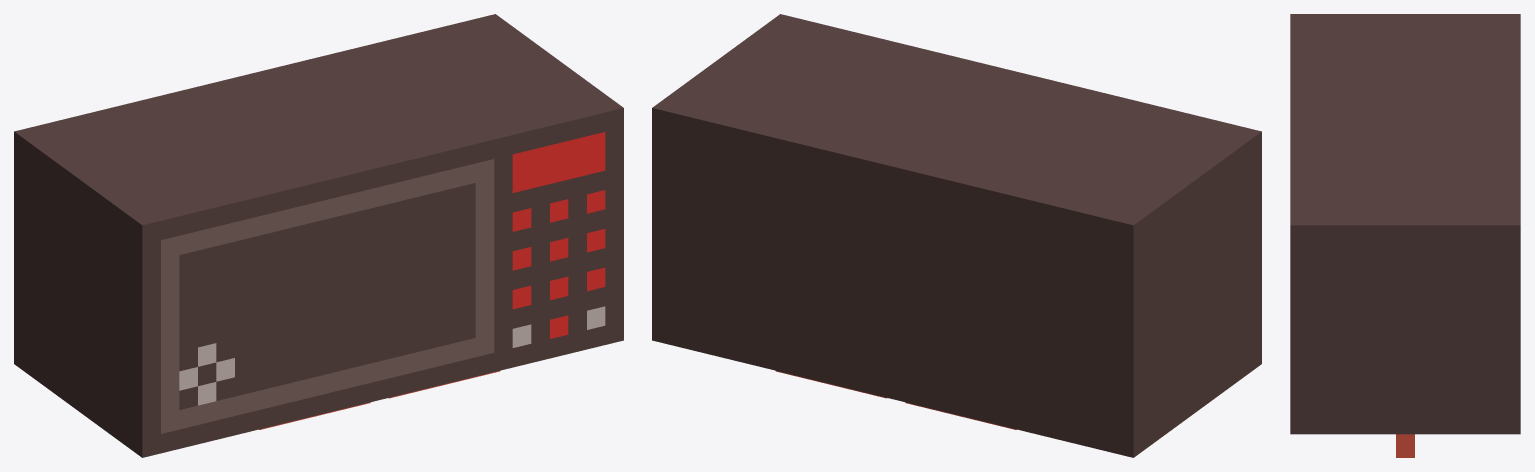
File: wallsafe.glb
3 renders of one model, left to right at view 1: azimuth 30°, elevation 25°; view 2: azimuth 150°, elevation 25°; view 3: azimuth 270°, elevation 25°, orthographic. The views are drawn at different scales.
Parts seen in each view (by area): view 1: base, in; view 2: base; view 3: base, glasses.
Boxes of the visible parts, x1,y1,x2,y2 form: base: (14,14,623,457); in: (161,132,605,433); base: (652,14,1261,457); base: (1290,14,1520,434); glasses: (1396,434,1414,457).
Bounding box in the file's own units: 26 × 15 × 12.
8 materials, 8 textured.
